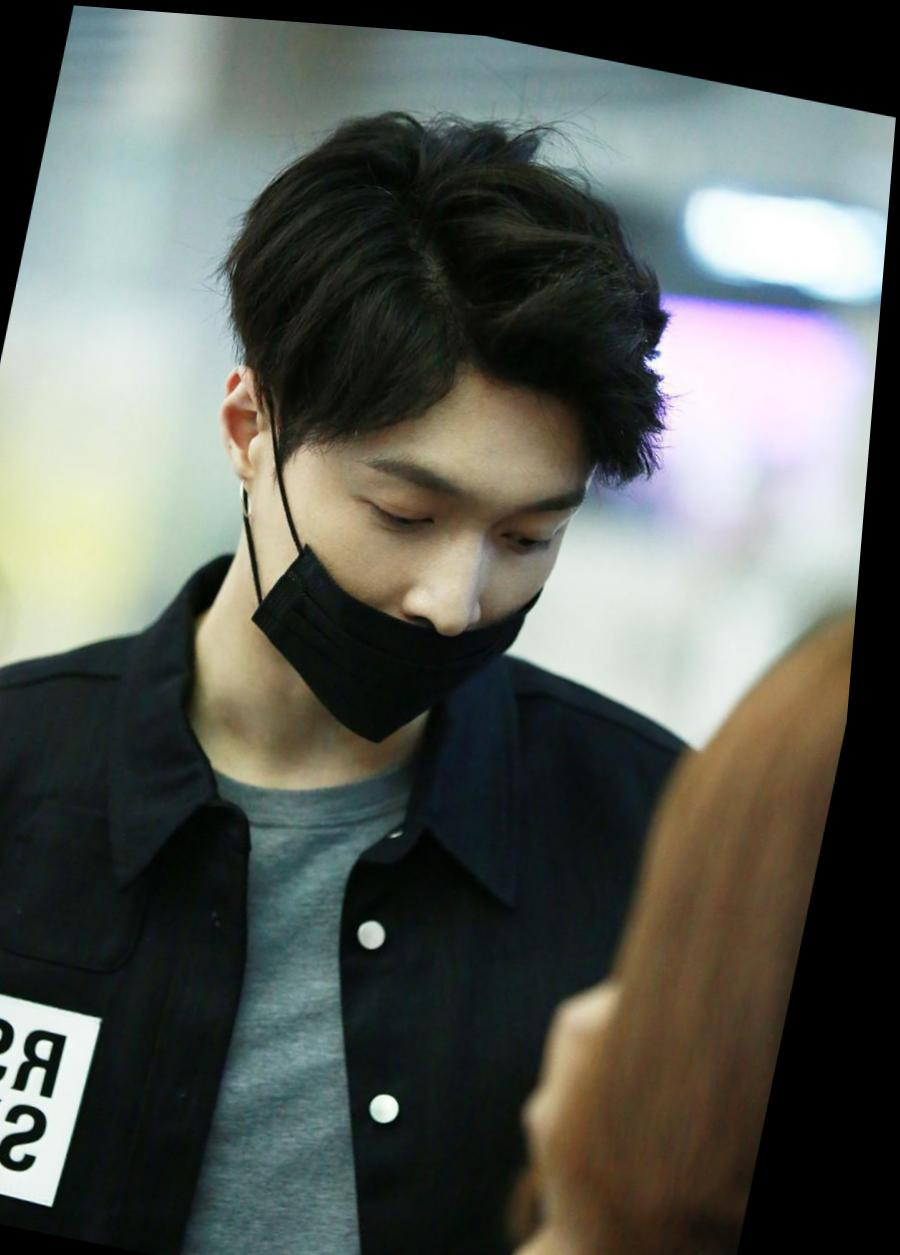WRONG: (242, 402, 601, 759)
